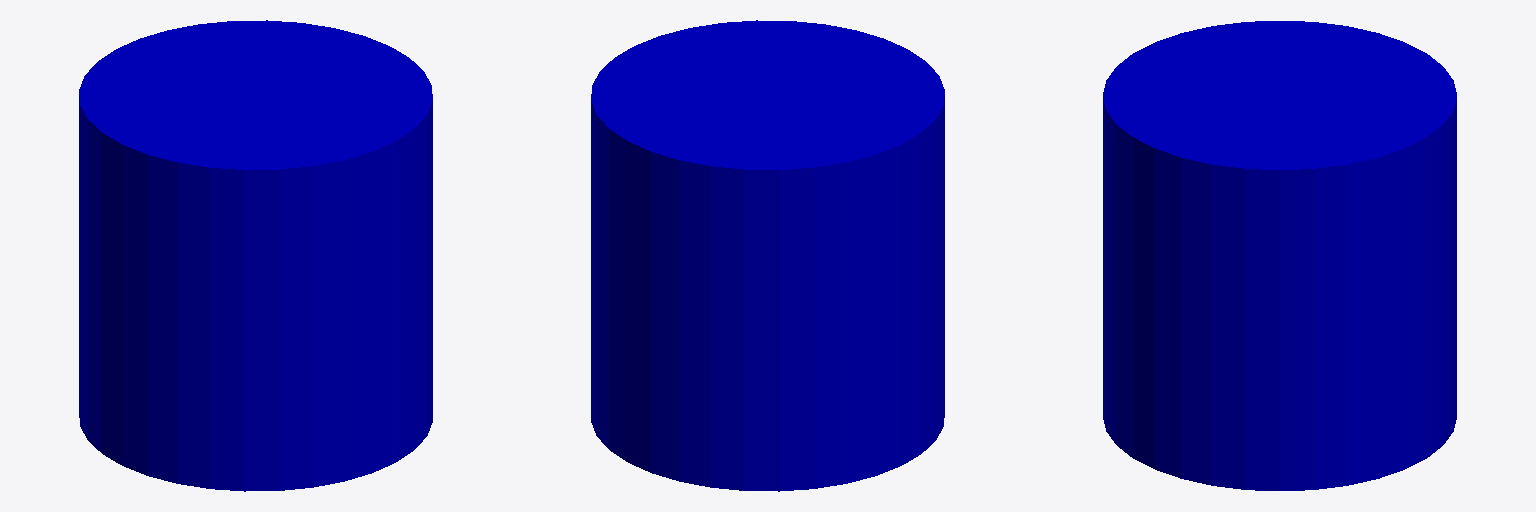
URDF robot description (myfirst):
<?xml version="1.0"?>
 <robot name="myfirst">
 
   <material name="blue">
     <color rgba="0 0 0.8 1"/>
   </material>
   
   <link name="base_link">
     <visual>
       <geometry>
         <cylinder length="0.4" radius="0.2"/>
       </geometry>
       <material name="blue"/>
     </visual>
     
     <inertial>
       <mass value="1"/>
       <inertia ixx="1.0" ixy="0.0" ixz="0.0" iyy="1.0" iyz="0.0" izz="1.0"/>
     </inertial>
   </link>

 </robot>

--- Facts derived from the render (not from the file) ---
The picture shows the robot from 3 angles, left to right: view 1: azimuth 30°, elevation 25°; view 2: azimuth 150°, elevation 25°; view 3: azimuth 270°, elevation 25°; orthographic projection.
Model myfirst with 1 links and 0 joints (none), rooted at base_link, posed all joints at 0.
Visible links, largest first — view 1: base_link; view 2: base_link; view 3: base_link.
Boxes of the visible links, left/top/right/bottom form: base_link: left=79, top=20, right=432, bottom=491; base_link: left=591, top=20, right=944, bottom=491; base_link: left=1103, top=21, right=1456, bottom=490.
Bounding box of the posed robot: 0.4 × 0.4 × 0.4 m (x, y, z).
Geometry: primitives only (box / cylinder / sphere), no mesh files.